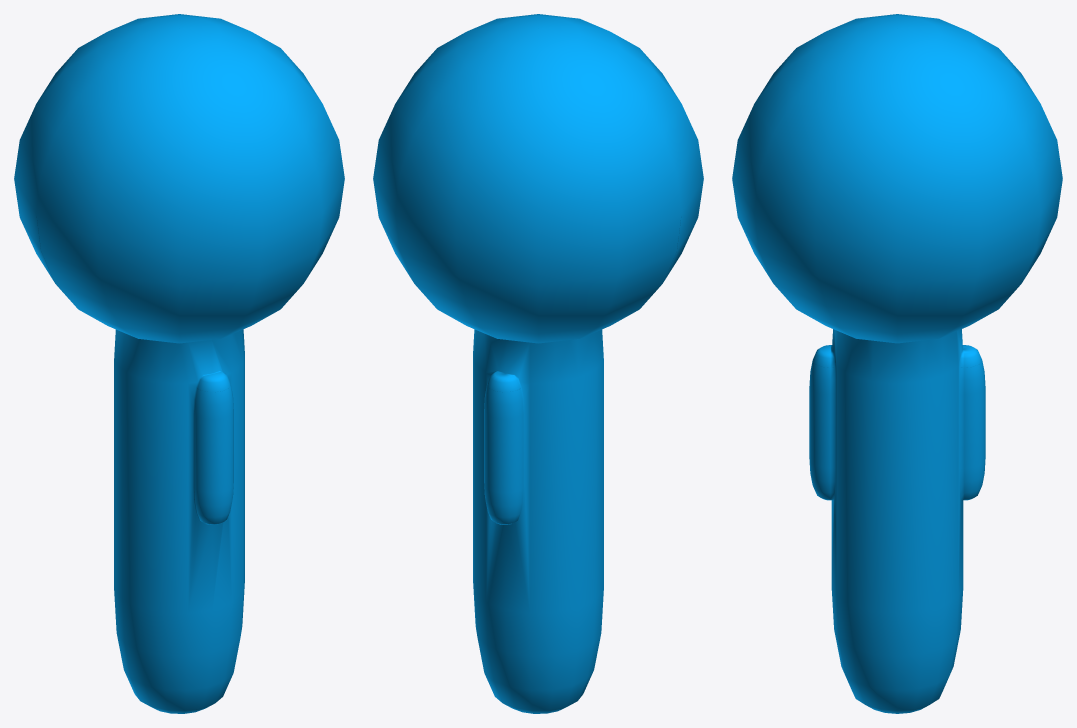
File: NPC.fbx
3 renders of one model, left to right at view 1: azimuth 30°, elevation 25°; view 2: azimuth 150°, elevation 25°; view 3: azimuth 270°, elevation 25°, orthographic.
Parts seen in each view (by area): view 1: Cylinder.001; view 2: Cylinder.001; view 3: Cylinder.001.
Boxes of the visible parts, x1,y1,x2,y2 form: Cylinder.001: [14, 14, 344, 713]; Cylinder.001: [373, 14, 703, 713]; Cylinder.001: [732, 14, 1062, 713].
Bounding box in the file's own units: 176 × 394 × 176.
Materials: 1 (1 with a texture image).
